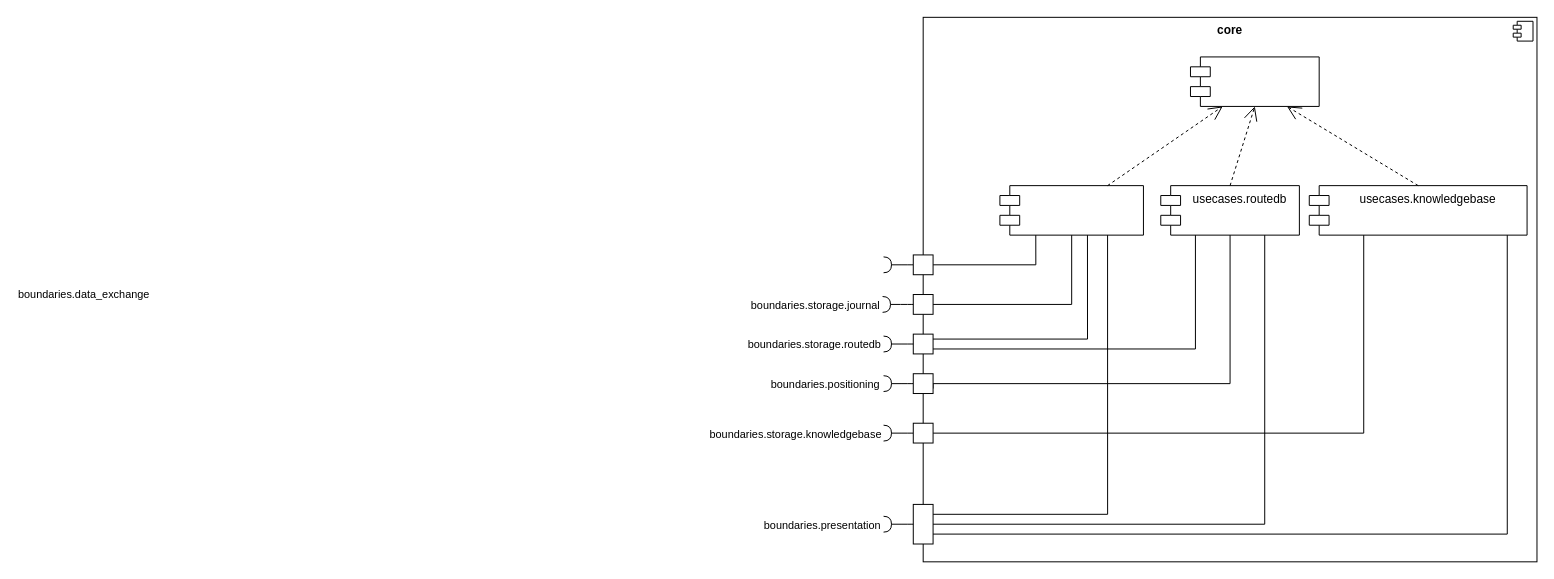
The diagram is 1554 pixels wide and 579 high, and some of its shapes have lost their labels. The shapes that lost their labels are listed below. From the top down, each one's centre as x and y in pixels, then its label:
At point (1254, 81): "entities".
At point (1071, 210): "usecases.journal".
